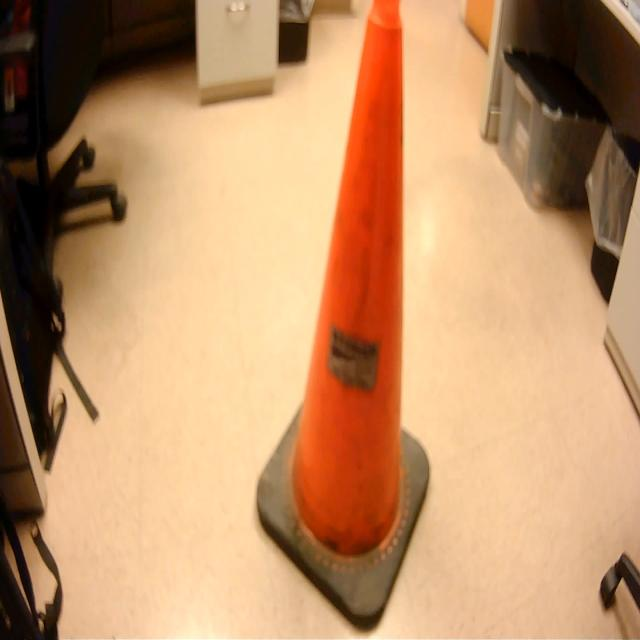traffic cone: (252, 1, 436, 640)
